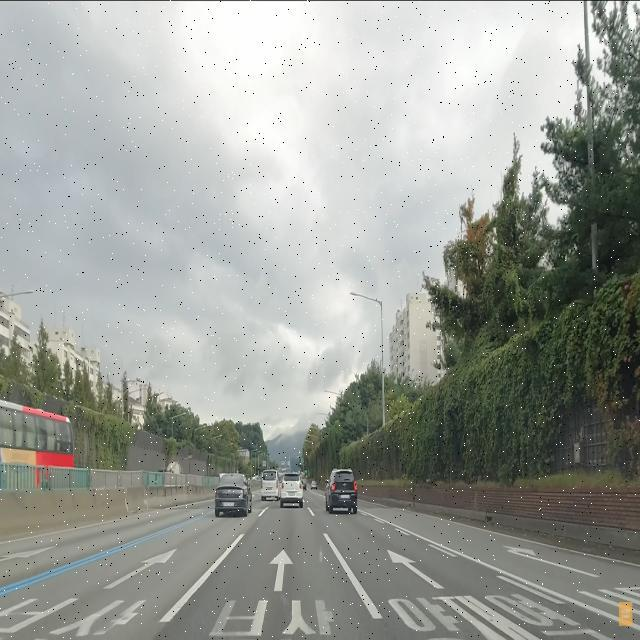forward: (176, 534, 375, 597)
